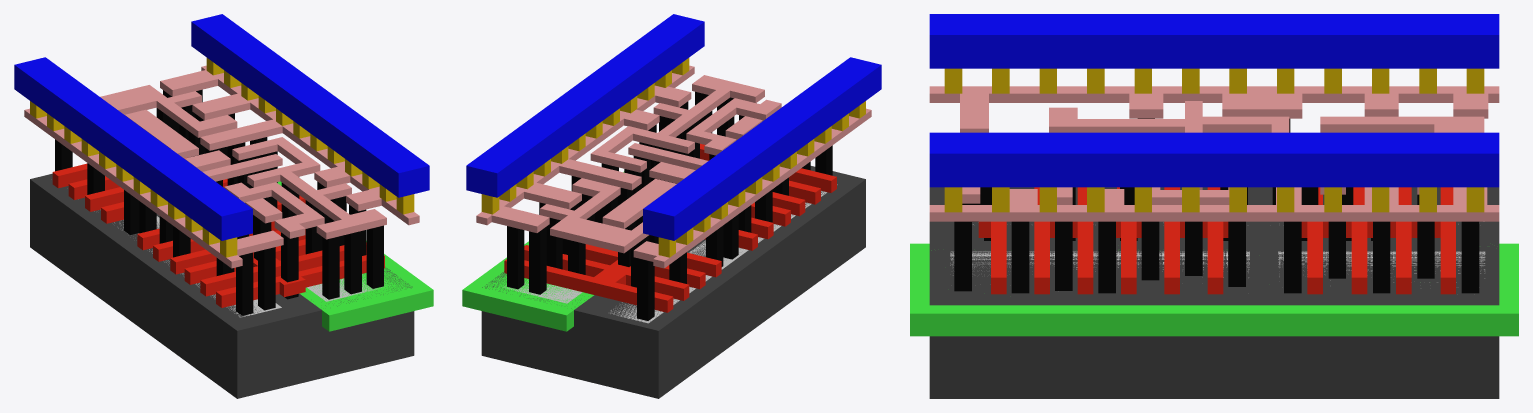
File: sky130_fd_sc_hd__a21o_4.obj
3 views of the same model, side by side, from view 1: azimuth 30°, elevation 25°; view 2: azimuth 150°, elevation 25°; view 3: azimuth 270°, elevation 25° (orthographic). The views are drawn at different scales.
Parts seen in each view (by area): view 1: subs, metal1, li, licon, poly, mcon, nwell, tap; view 2: subs, metal1, li, licon, poly, mcon, nwell, diff, tap; view 3: metal1, subs, li, nwell, licon, poly, mcon, tap.
Part boxes in pixels (<box>): subs: <box>30,173,414,398</box>; metal1: <box>14,14,429,240</box>; li: <box>24,65,419,268</box>; licon: <box>55,89,383,315</box>; poly: <box>52,157,384,307</box>; mcon: <box>30,58,414,257</box>; nwell: <box>277,181,433,331</box>; tap: <box>307,274,385,301</box>; subs: <box>481,166,865,398</box>; metal1: <box>466,14,881,240</box>; li: <box>476,65,871,268</box>; licon: <box>507,91,832,320</box>; poly: <box>504,143,836,312</box>; mcon: <box>481,58,865,257</box>; nwell: <box>462,171,624,331</box>; diff: <box>610,184,837,323</box>; tap: <box>503,279,582,303</box>; metal1: <box>929,14,1499,187</box>; subs: <box>929,187,1499,398</box>; li: <box>929,86,1499,221</box>; nwell: <box>910,243,1518,336</box>; licon: <box>954,118,1479,293</box>; poly: <box>978,187,1455,294</box>; mcon: <box>944,68,1484,212</box>; tap: <box>950,251,1485,282</box>.
Size of the model in its own units: 3.2 by 2.74 by 5.9.
